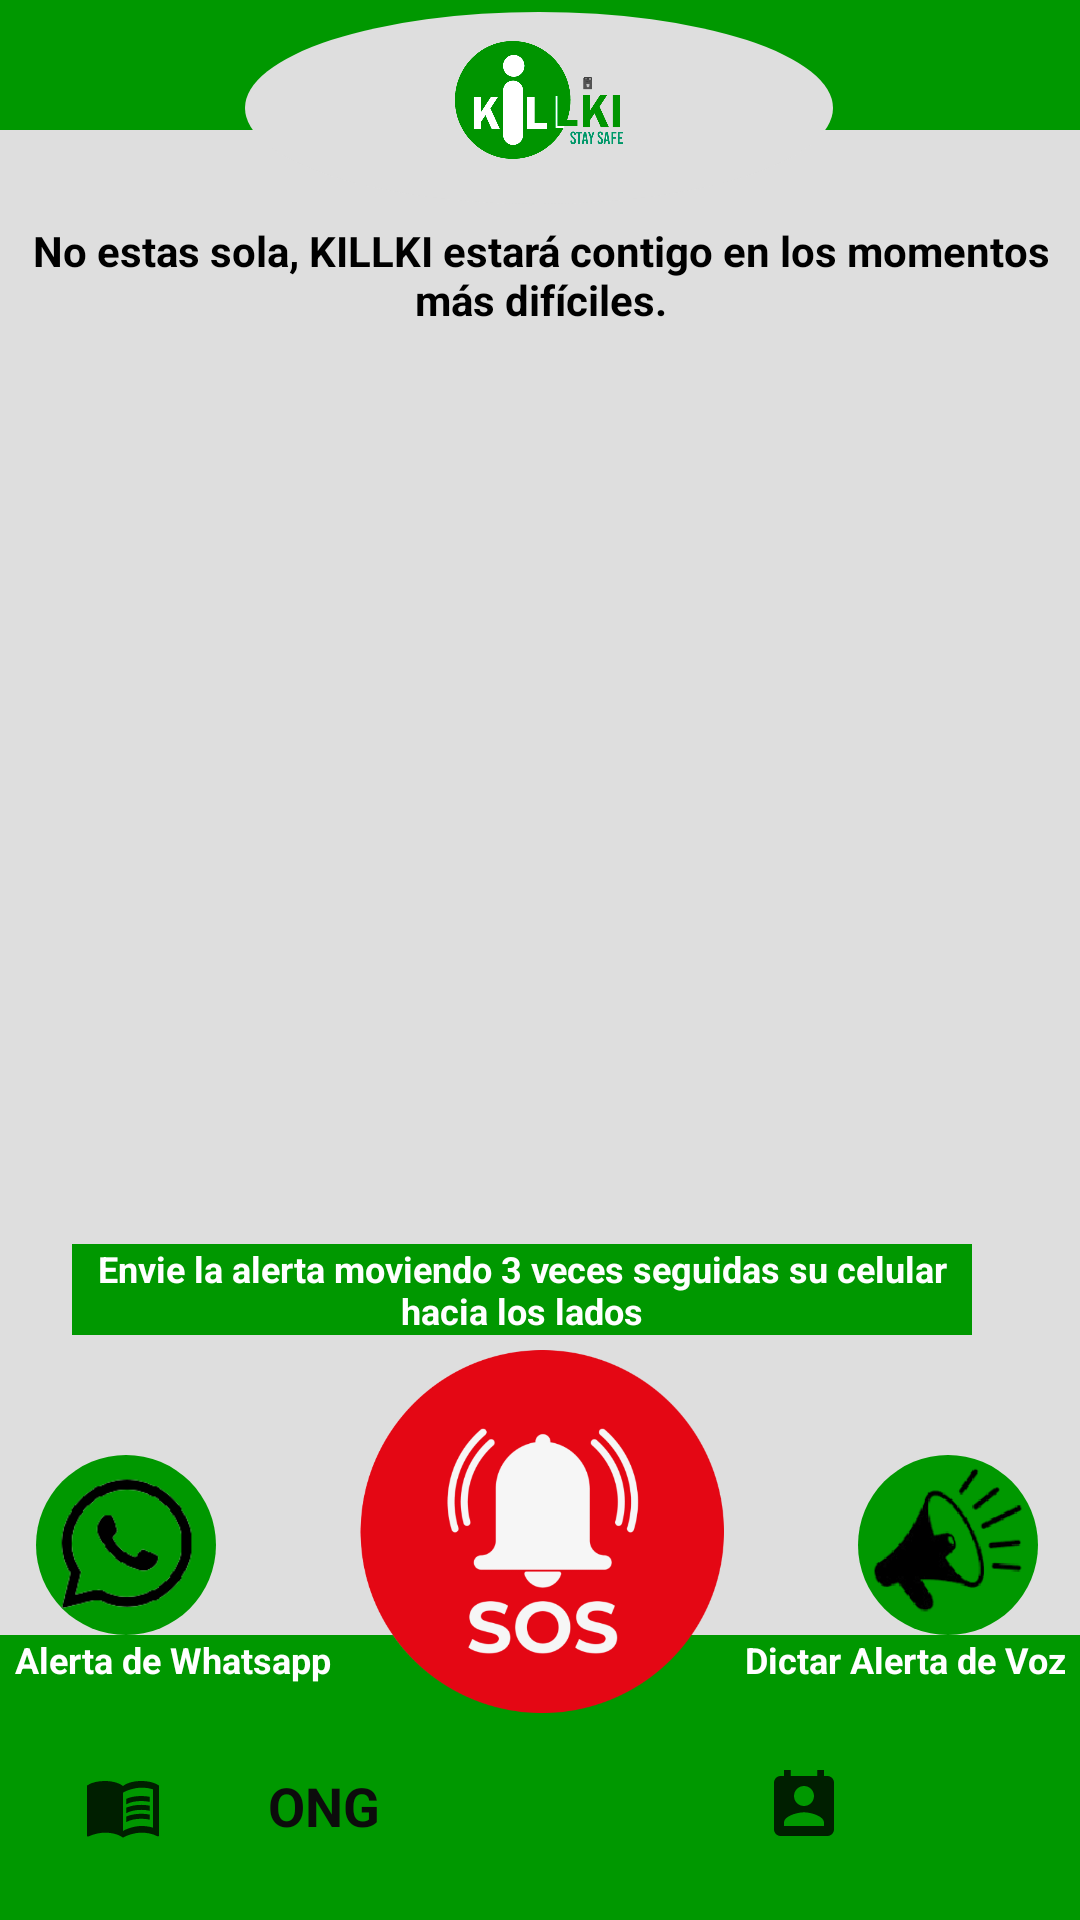

Named icons in this screenshot (1080x1920) and their bounding boxes, Rect(x1, y1, x2, y2):
book: Rect(87, 1781, 159, 1838)
contact: Rect(774, 1770, 834, 1836)
